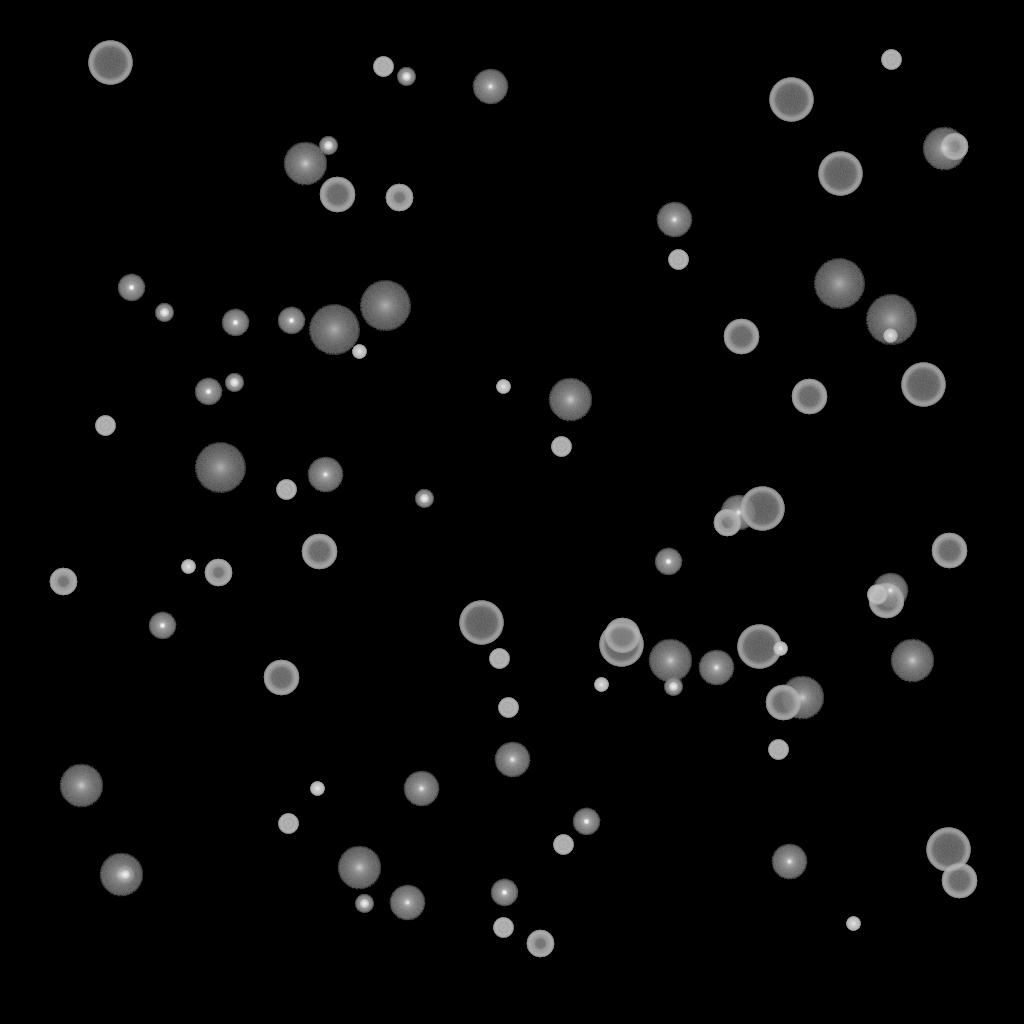depth:-10: (221, 309, 249, 337), (654, 548, 682, 576), (148, 612, 176, 640), (194, 378, 222, 406), (572, 808, 600, 836), (117, 274, 145, 302), (490, 879, 518, 907), (277, 307, 305, 335)
depth:-20: (415, 490, 433, 508), (664, 678, 682, 696), (319, 137, 337, 155), (155, 304, 173, 322), (355, 895, 373, 913), (225, 374, 243, 392), (116, 866, 134, 884), (397, 68, 415, 86)
depth:-30: (594, 678, 608, 692), (181, 560, 195, 574), (352, 345, 366, 359), (846, 917, 860, 931), (496, 380, 510, 394), (883, 329, 897, 343), (773, 642, 787, 656), (310, 782, 324, 796)
depth:-40: (95, 416, 115, 436), (489, 649, 509, 669), (668, 250, 688, 270), (498, 698, 518, 718), (881, 50, 901, 70), (276, 480, 296, 500), (553, 835, 573, 855), (768, 740, 788, 760), (867, 585, 887, 605), (278, 814, 298, 834), (373, 57, 393, 77), (493, 918, 513, 938), (551, 437, 571, 457)
depth:-50: (526, 930, 554, 958), (204, 559, 232, 587), (49, 568, 77, 596), (940, 133, 968, 161), (385, 184, 413, 212), (713, 509, 741, 537)
depth:-60: (941, 863, 977, 899), (868, 583, 904, 619), (319, 177, 355, 213), (301, 534, 337, 570), (765, 685, 801, 721), (604, 618, 640, 654), (931, 533, 967, 569), (791, 379, 827, 415), (263, 660, 299, 696), (723, 319, 759, 355)
depth:-70: (901, 363, 945, 407), (740, 487, 784, 531), (926, 828, 970, 872), (737, 625, 781, 669), (599, 623, 643, 667), (769, 78, 813, 122), (818, 152, 862, 196), (459, 601, 503, 645), (88, 41, 132, 85)
depth:0: (472, 69, 508, 105), (403, 771, 439, 807), (698, 650, 734, 686), (307, 457, 343, 493), (389, 885, 425, 921), (720, 495, 756, 531), (494, 742, 530, 778), (656, 202, 692, 238), (771, 844, 807, 880), (872, 573, 908, 609)
depth:10: (283, 142, 327, 186), (780, 676, 824, 720), (548, 378, 592, 422), (99, 853, 143, 897), (337, 846, 381, 890), (648, 639, 692, 683), (890, 639, 934, 683), (922, 127, 966, 171), (59, 764, 103, 808)
depth:20: (308, 305, 360, 355), (865, 295, 917, 345), (194, 443, 246, 493), (813, 259, 865, 309), (359, 281, 411, 331)
